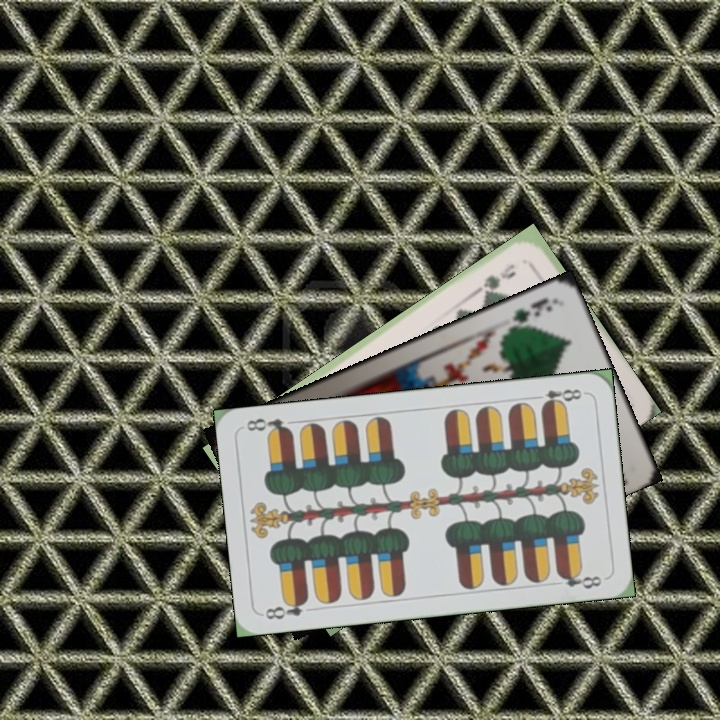E8: (528, 385, 585, 410), (261, 594, 311, 622)
G9: (475, 259, 518, 296)
GK: (504, 293, 556, 334)
